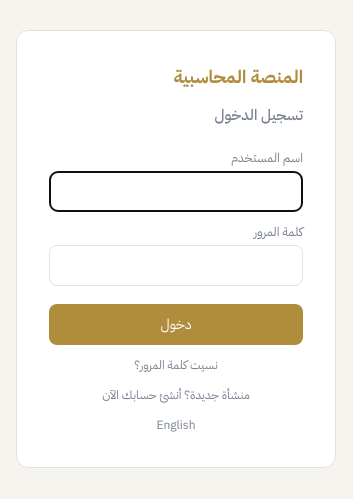
Test: Sign in for a platform account that must turn the second factor on › shows the refusal as an error when no enrolment session comes with it
The image size is (353, 499).
Type "platform-admin" into the field.
click(176, 192); type("platform-admin")  # box [49,171,303,212]
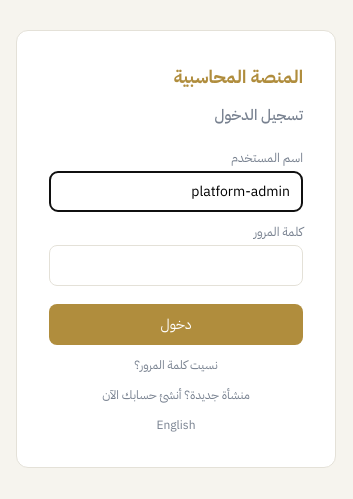
Type "Admin-pass-1" into the password field labelled "كلمة المرور".
click(176, 266); type("Admin-pass-1")  # box [49,245,303,286]
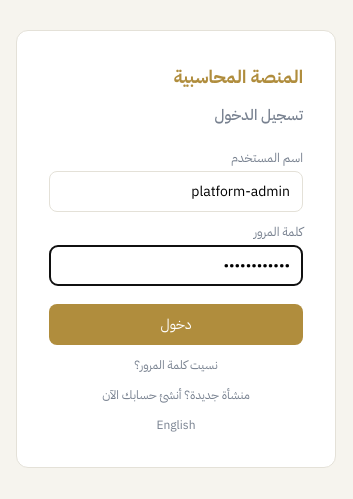
Click the button "دخول".
click(176, 324)  # box [49,304,303,345]
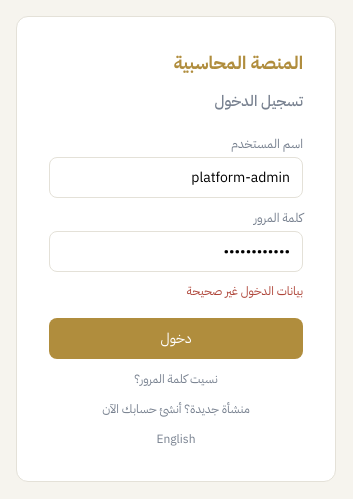
Expected: the text "بيانات الدخول غير صحيحة" is shown, [187,282,303,300]
